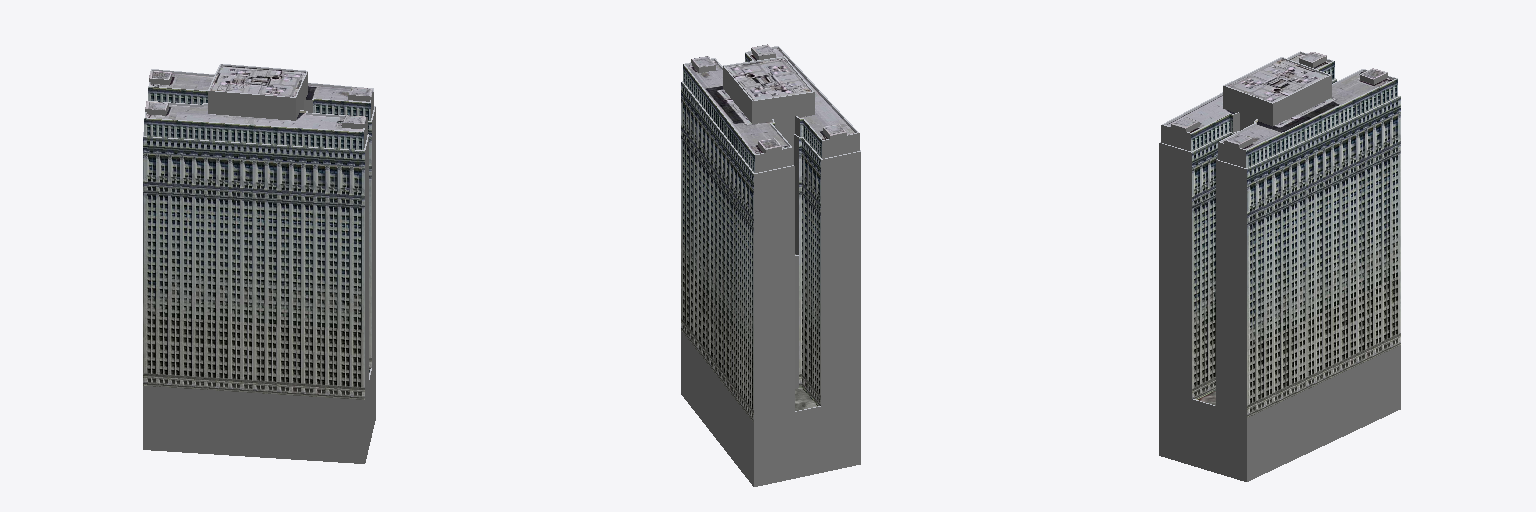
The picture shows the model from 3 angles: view 1: azimuth 30°, elevation 25°; view 2: azimuth 150°, elevation 25°; view 3: azimuth 270°, elevation 25°; orthographic projection.
Visible parts, largest first — view 1: mesh1; view 2: mesh1; view 3: mesh1.
Boxes of the visible parts, <box> form: mesh1: <box>143,64,375,463</box>; mesh1: <box>681,44,860,486</box>; mesh1: <box>1159,51,1400,481</box>.
Bounding box in the file's own units: 3962 × 6456 × 4011.
11 materials, 3 textured.